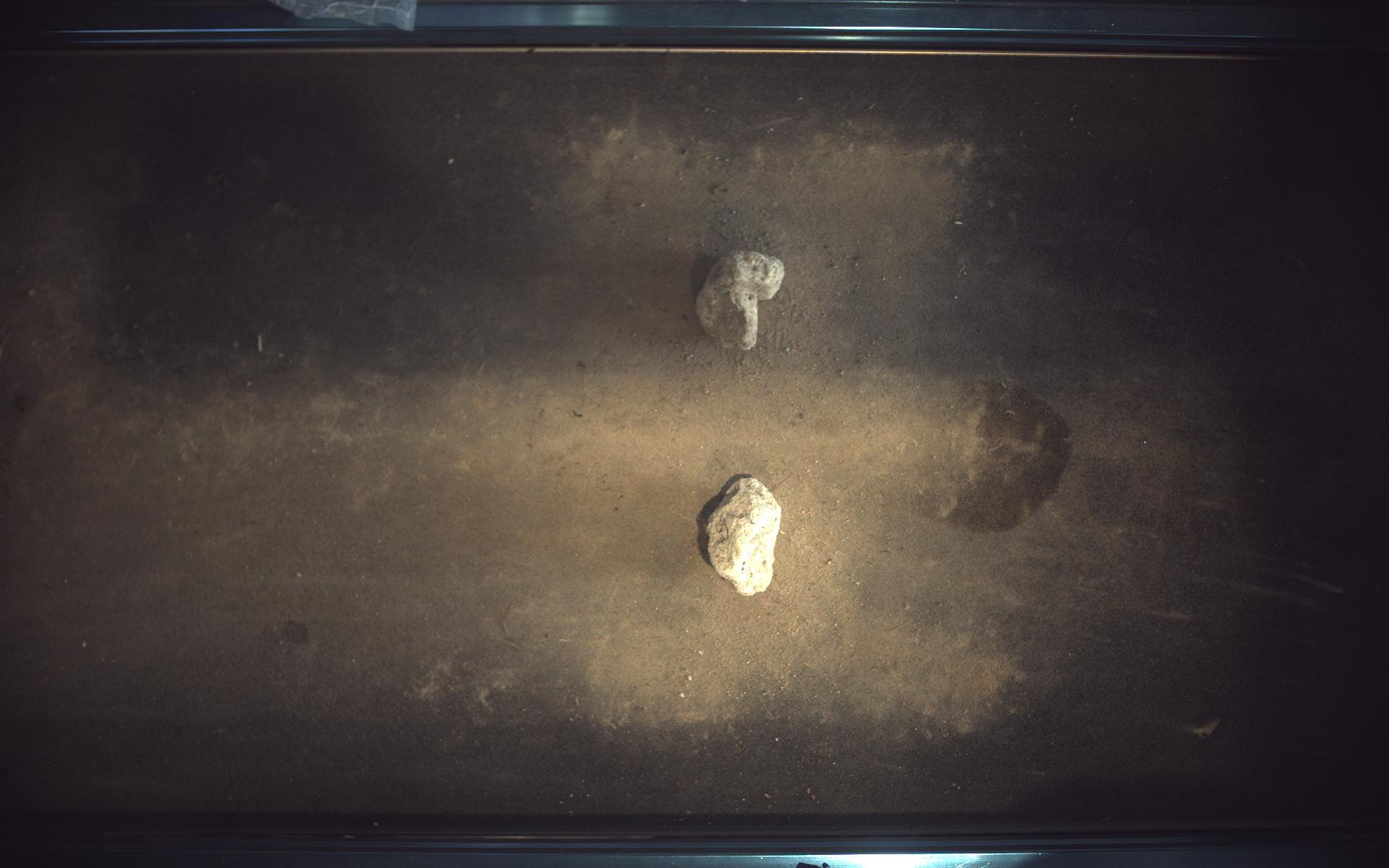stone: (707, 477, 783, 596), (697, 250, 786, 350)
